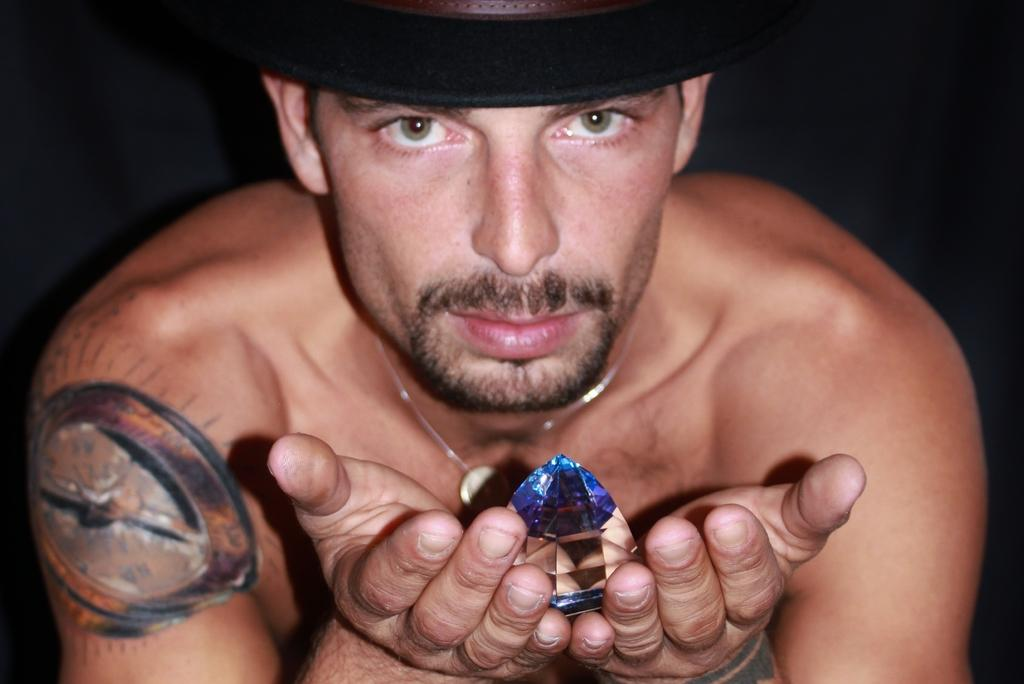Hat: (246, 0, 760, 102)
